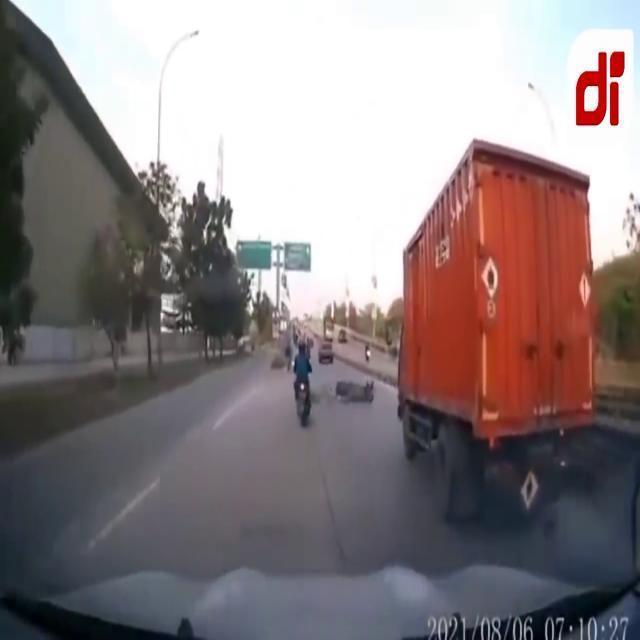accident: (334, 380, 374, 404)
